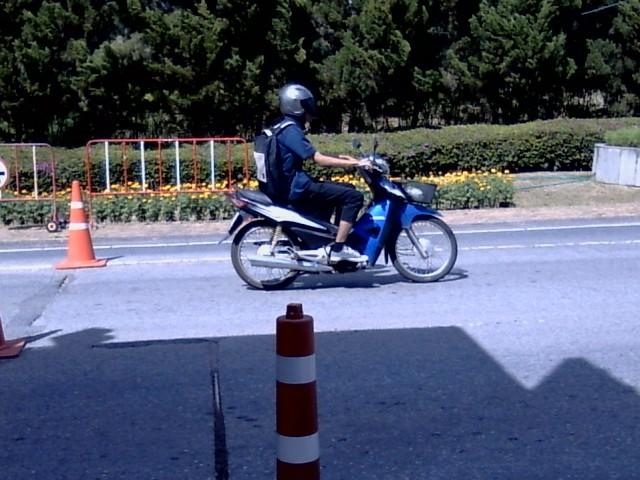helmet: (278, 81, 318, 123)
motor: (226, 139, 456, 288)
person: (275, 83, 369, 262)
